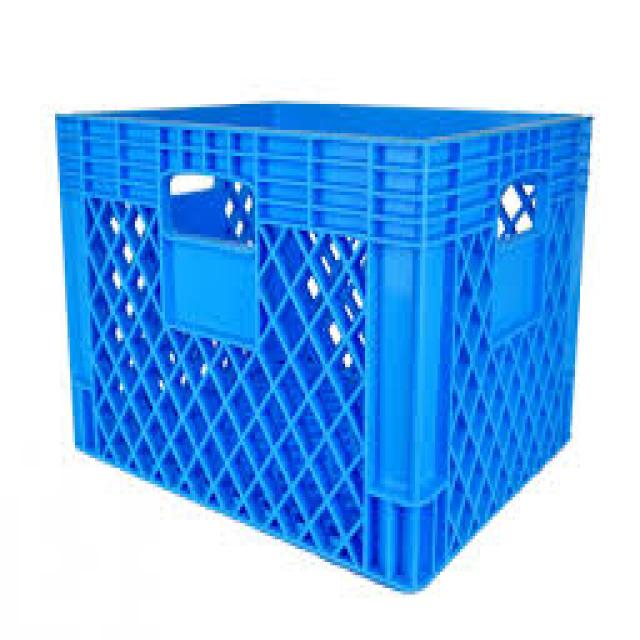basket: (36, 89, 593, 598)
